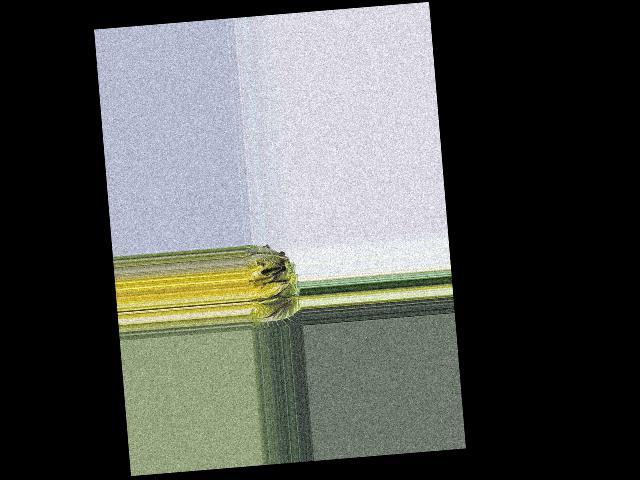lettuce: (243, 244, 301, 330)
